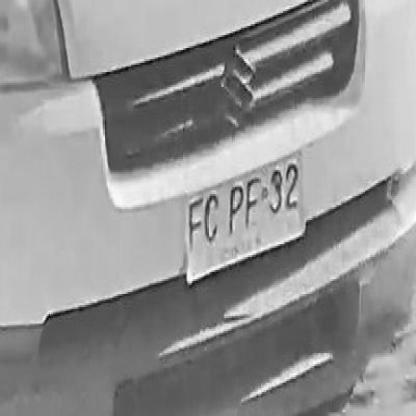Patente: (186, 148, 308, 290)
